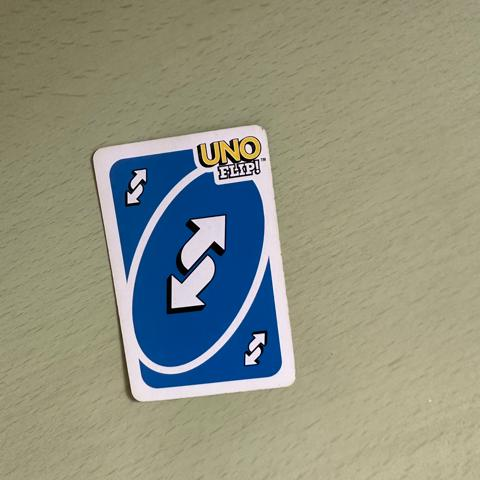lbluerevers-20: (112, 152, 160, 219)
